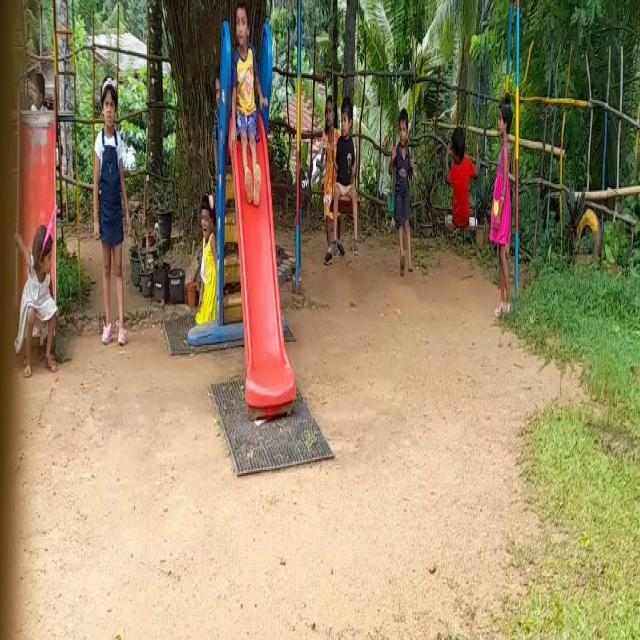child: (88, 53, 140, 342), (226, 0, 266, 206), (488, 95, 519, 322), (20, 220, 63, 372), (389, 106, 420, 270), (186, 184, 218, 326), (333, 105, 363, 249), (445, 116, 472, 234)
